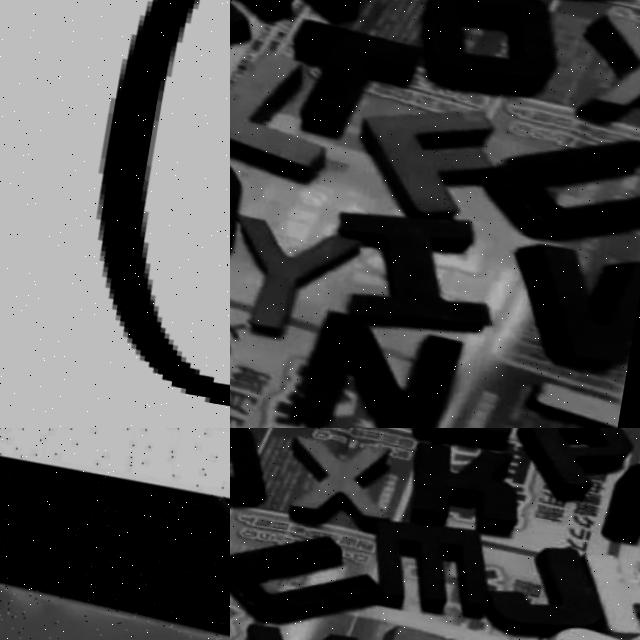0: (54, 0, 230, 428)
E: (230, 0, 370, 53)
F: (356, 95, 507, 226)
H: (575, 537, 640, 640)
I: (330, 200, 508, 341)
J: (482, 532, 612, 640)
K: (396, 433, 534, 535)
L: (230, 39, 341, 183)
M: (356, 510, 500, 619)
N: (293, 306, 468, 428)
O: (410, 0, 567, 99), (230, 428, 276, 515)
P: (526, 428, 633, 504)
T: (272, 15, 425, 147)
U: (481, 109, 640, 254), (230, 521, 387, 634)
V: (479, 232, 640, 378)
W: (393, 428, 525, 449)
X: (278, 429, 413, 537), (565, 0, 640, 133)
Y: (230, 213, 356, 344)
Z: (481, 373, 624, 428)
